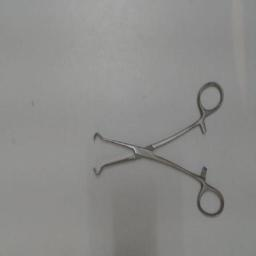Babcock Tissue Forceps: (88, 78, 228, 224)
